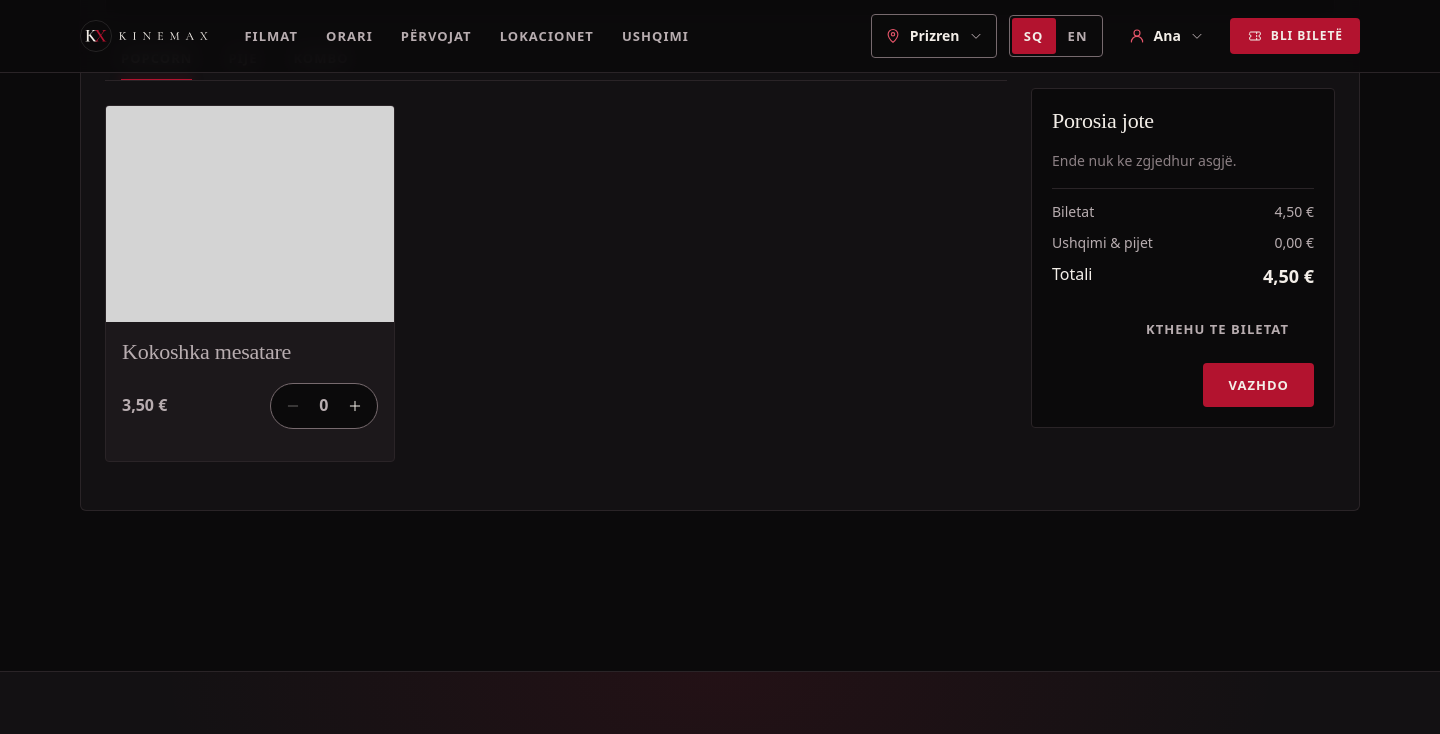
Test: Food & drinks step › sends the buyer back to the map when the hold has expired
(page scrolled)
Expected: the element showing "Popcorn Pije Kombo" is shown, 105,36 -> 1007,81
Click the button named "Më shumë: Kokoshka mesatare" at [355, 406], box 333,384 -> 377,428
(page scrolled)
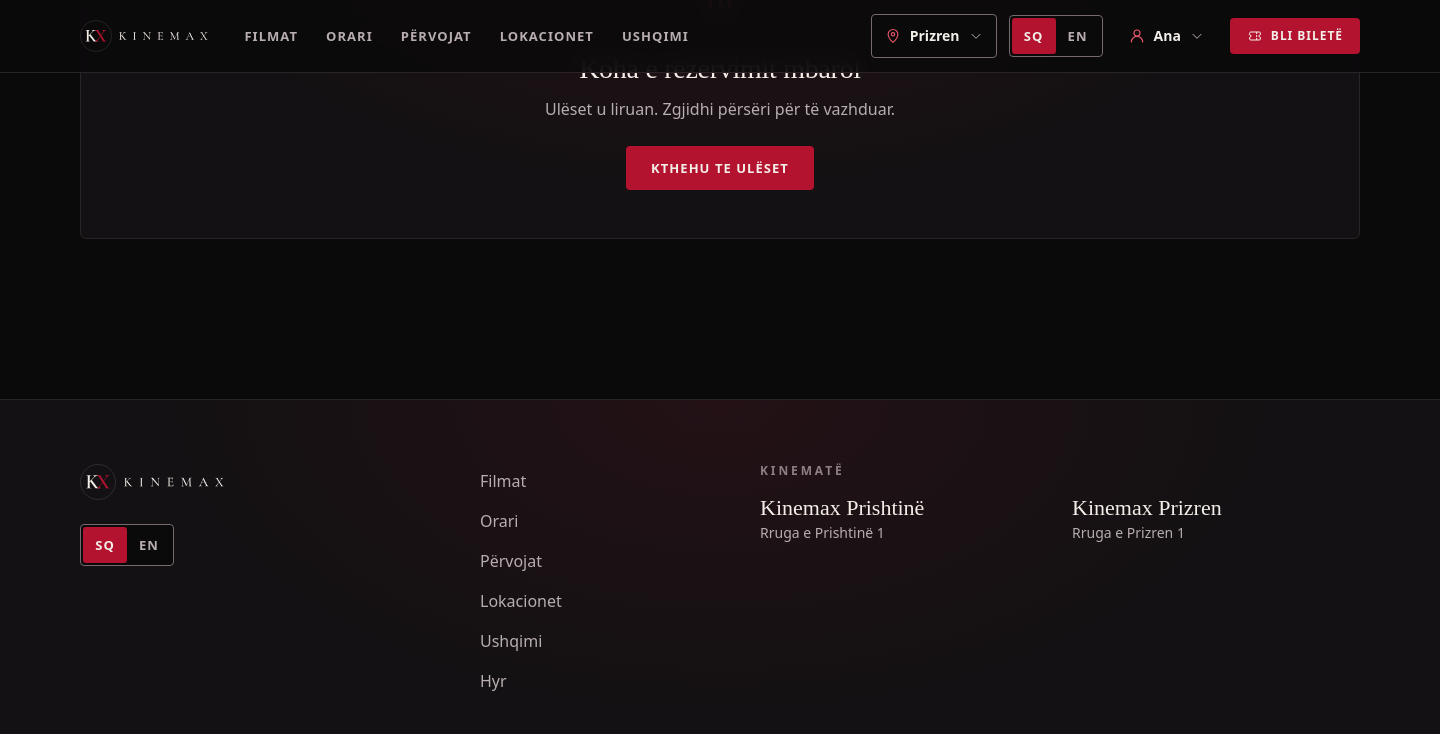
Expected: the heading "Koha e rezervimit mbaroi" is shown, 579,53 -> 861,85
